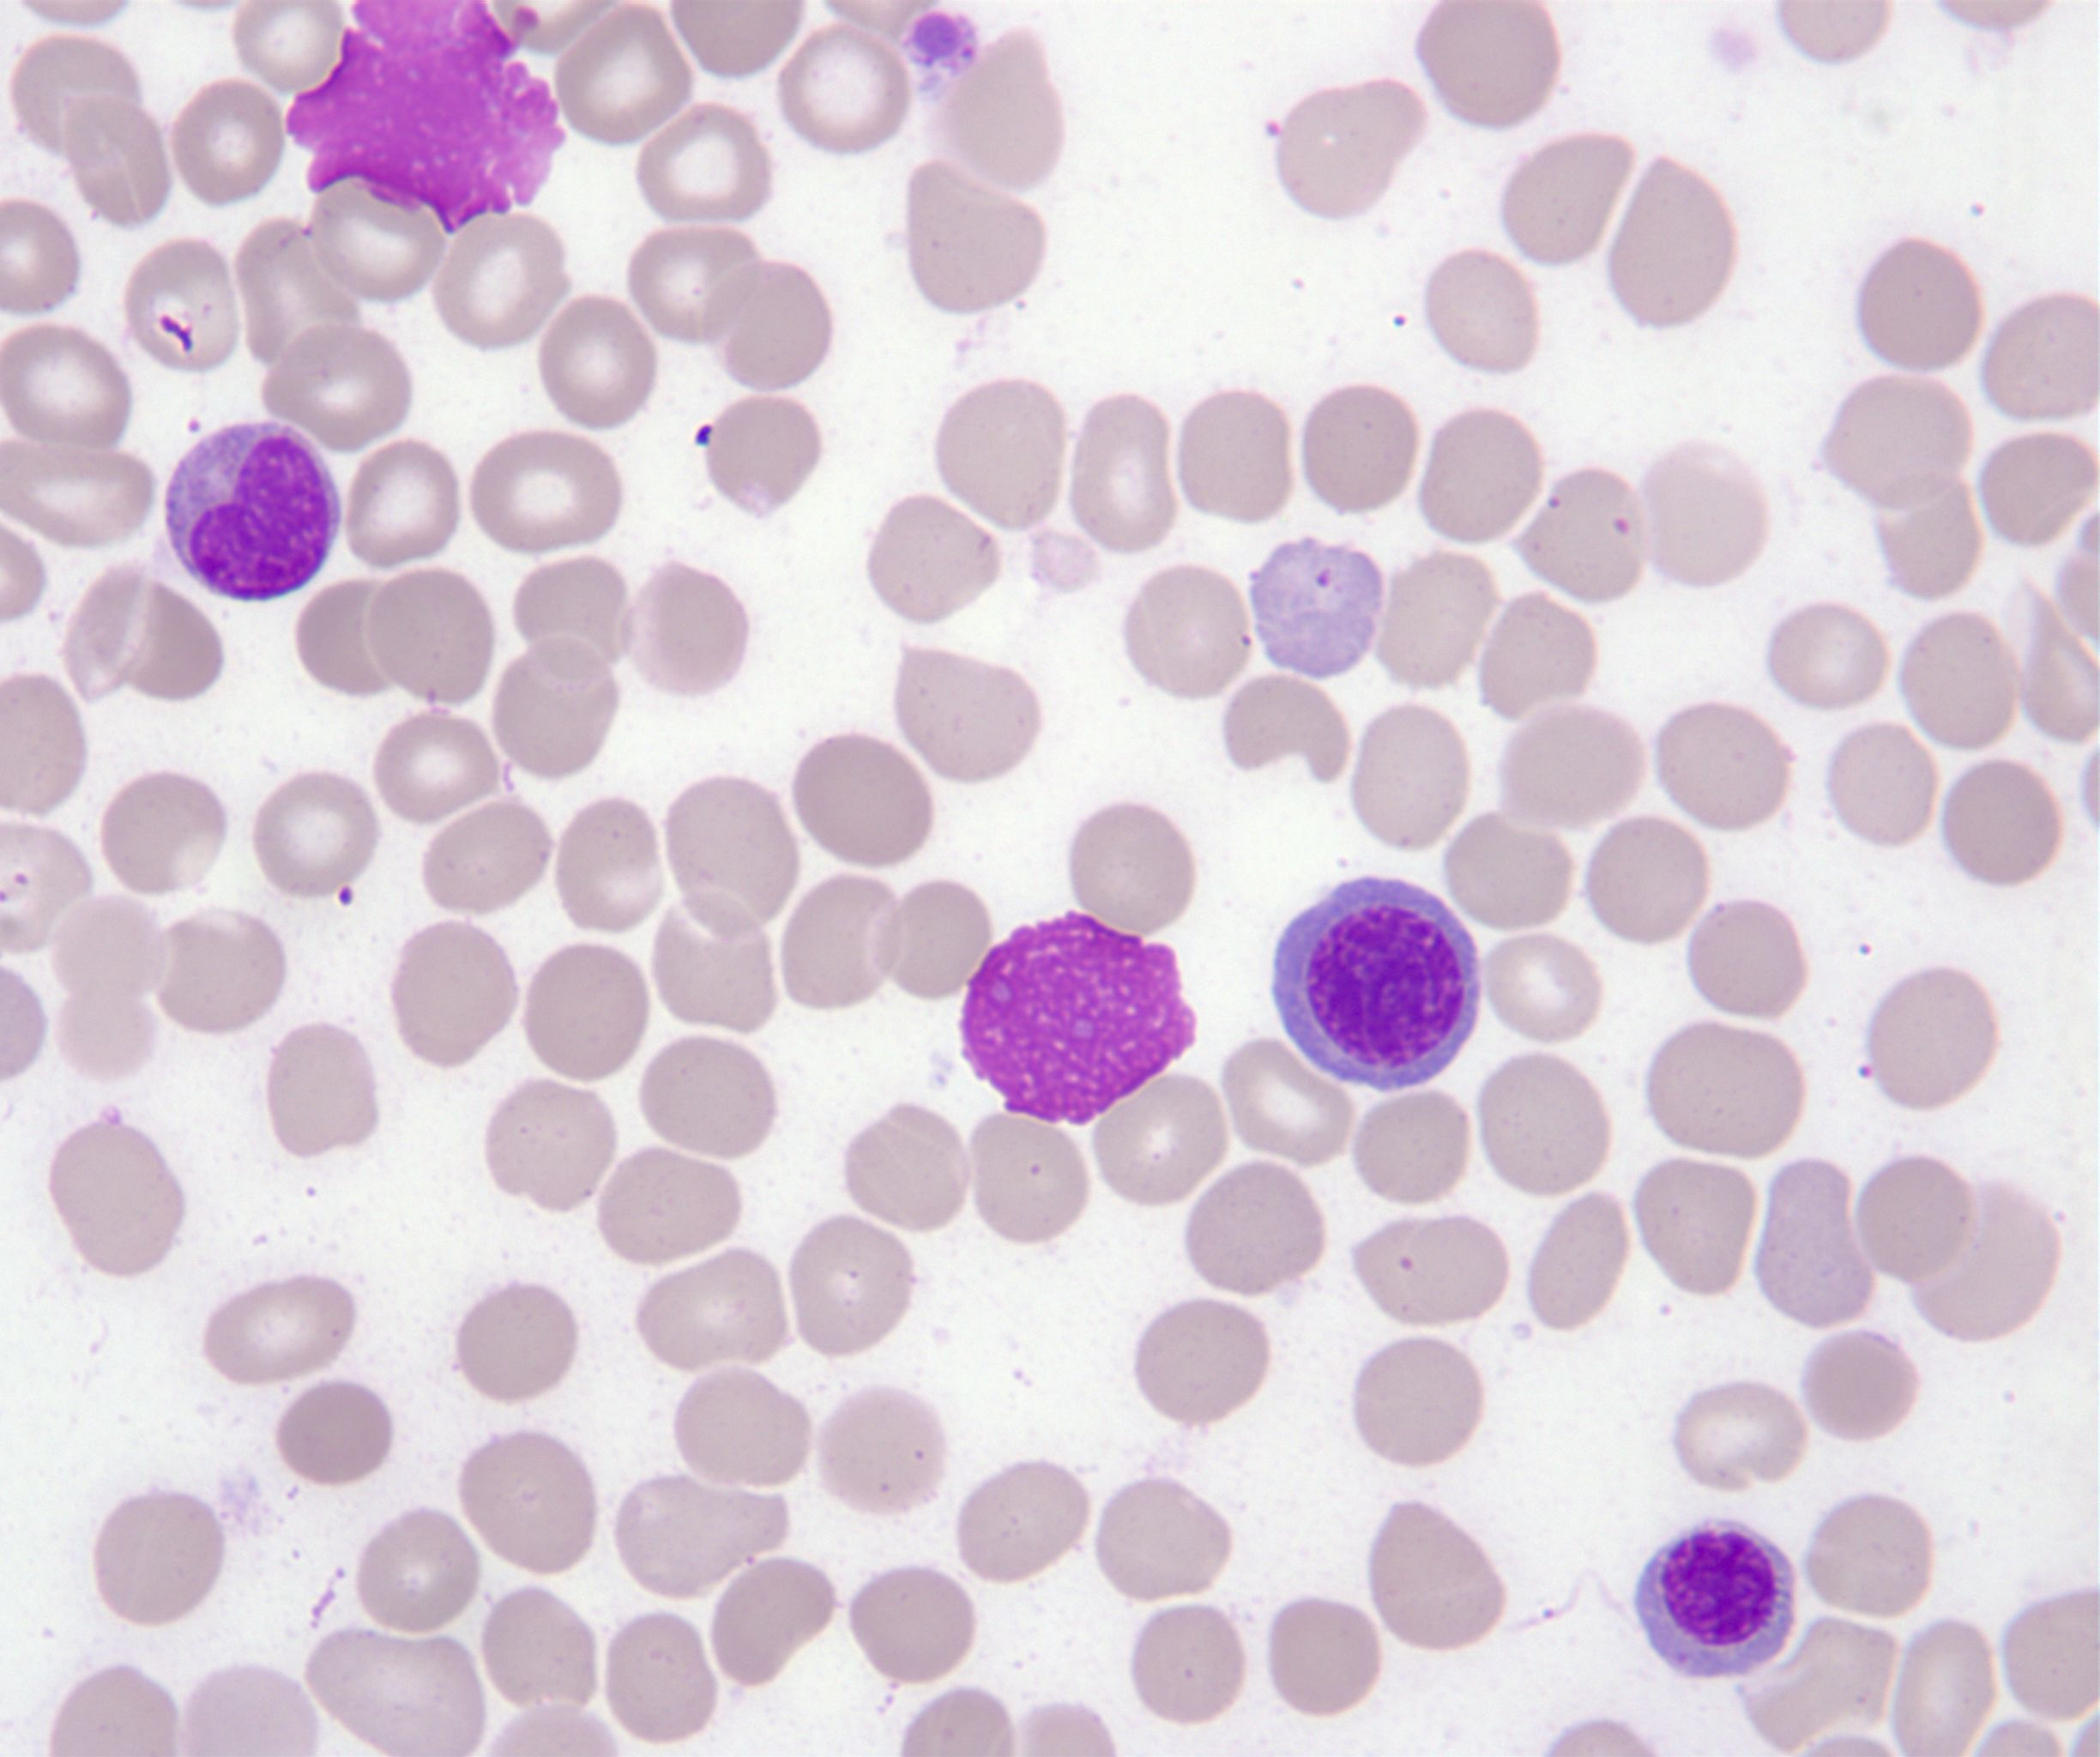23: (1273, 879, 1479, 1090)
24: (1634, 1520, 1793, 1678)
4: (167, 420, 338, 600)
x: (288, 2, 563, 236), (963, 916, 1195, 1127)
